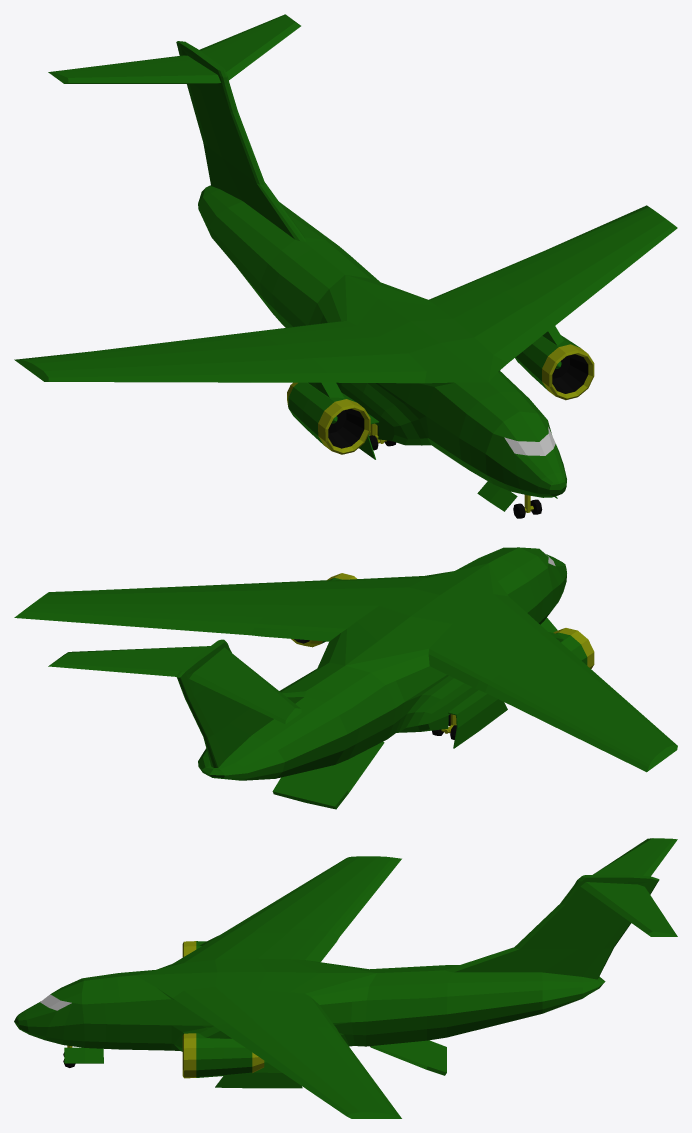
Rendered from Plane_green.fbx.
3 views of the same model, one above another, from view 1: azimuth 30°, elevation 25°; view 2: azimuth 150°, elevation 25°; view 3: azimuth 270°, elevation 25° (orthographic). The views are drawn at different scales.
Parts seen in each view (by area): view 1: aviao int; view 2: aviao int, p baixo c, pa t esq; view 3: aviao int, p baixo c, pa t dir, pa f dir.
Part boxes in pixels (box(x1,y1,x2,y2)): aviao int: box(14, 14, 677, 497); aviao int: box(14, 547, 677, 780); p baixo c: box(272, 742, 384, 809); pa t esq: box(448, 690, 507, 748); aviao int: box(14, 838, 677, 1118); p baixo c: box(370, 1040, 446, 1075); pa t dir: box(215, 1061, 302, 1088); pa f dir: box(64, 1047, 103, 1063).
Size of the model in its own units: 3133 by 1055 by 3380.
